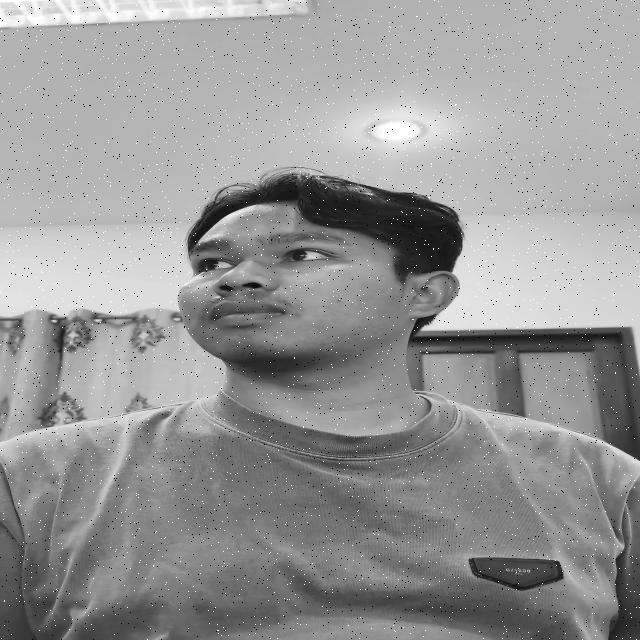ear: (407, 271, 459, 319)
